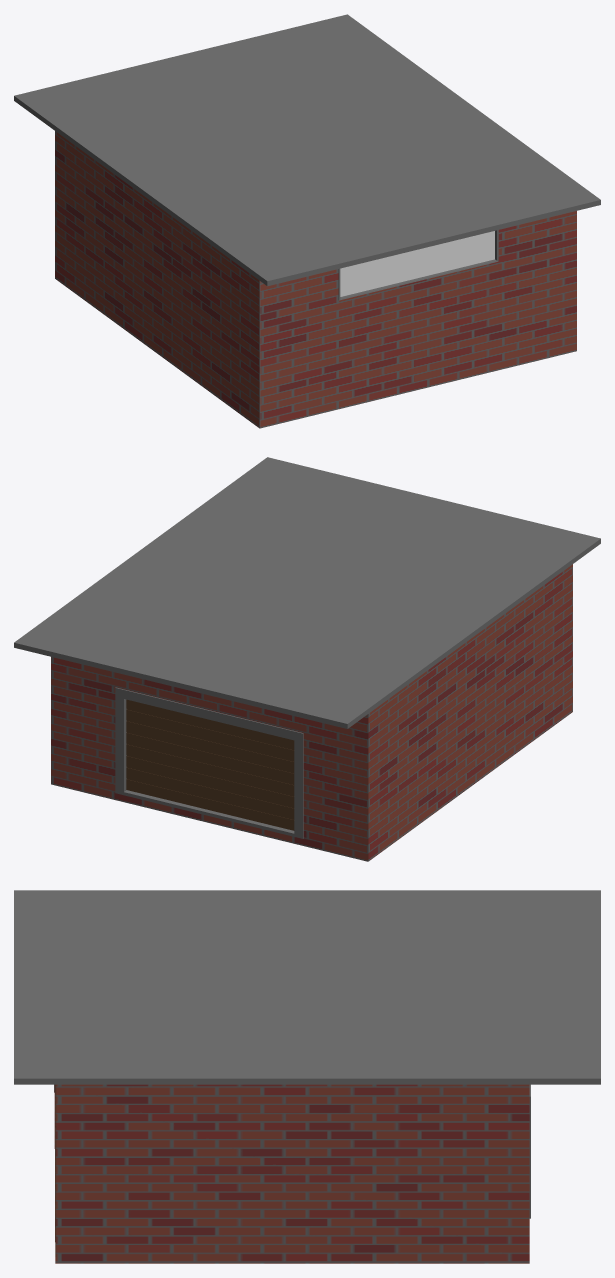
The model's file is garage.fbx.
3 views of the same model, one above another, from view 1: azimuth 30°, elevation 25°; view 2: azimuth 150°, elevation 25°; view 3: azimuth 270°, elevation 25° (orthographic). The views are drawn at different scales.
Visible parts, largest first — view 1: Roof, Garage, Window; view 2: Roof, Garage, Door, Rama; view 3: Roof, Garage.
Part boxes in pixels (left/top/right/bottom): Roof: left=14, top=14, right=600, bottom=286; Garage: left=55, top=131, right=576, bottom=428; Window: left=338, top=230, right=498, bottom=300; Roof: left=14, top=457, right=600, bottom=728; Garage: left=51, top=564, right=572, bottom=861; Door: left=126, top=699, right=294, bottom=830; Rama: left=115, top=687, right=303, bottom=838; Roof: left=14, top=890, right=600, bottom=1084; Garage: left=54, top=1084, right=529, bottom=1263.
Size of the model in its own units: 2307 by 1076 by 3037.
